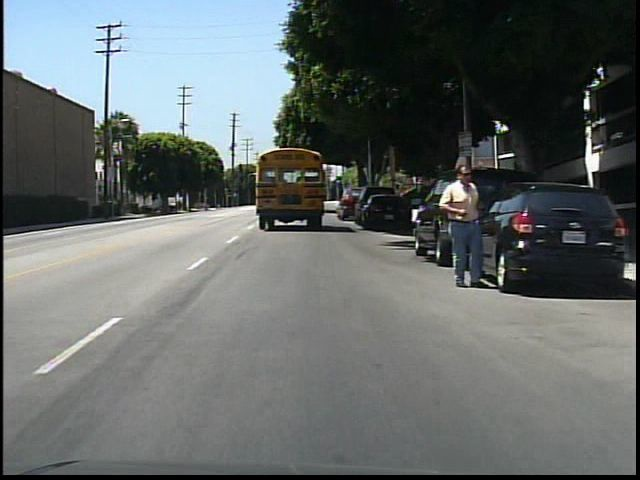person: (435, 159, 486, 291)
